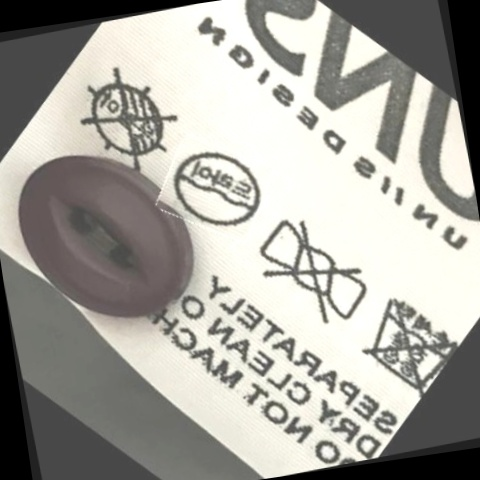DN_dry: (74, 65, 183, 175)
DN_wring: (252, 213, 374, 335)
dry_clean: (167, 139, 265, 240)
hand_wash: (354, 284, 457, 396)
